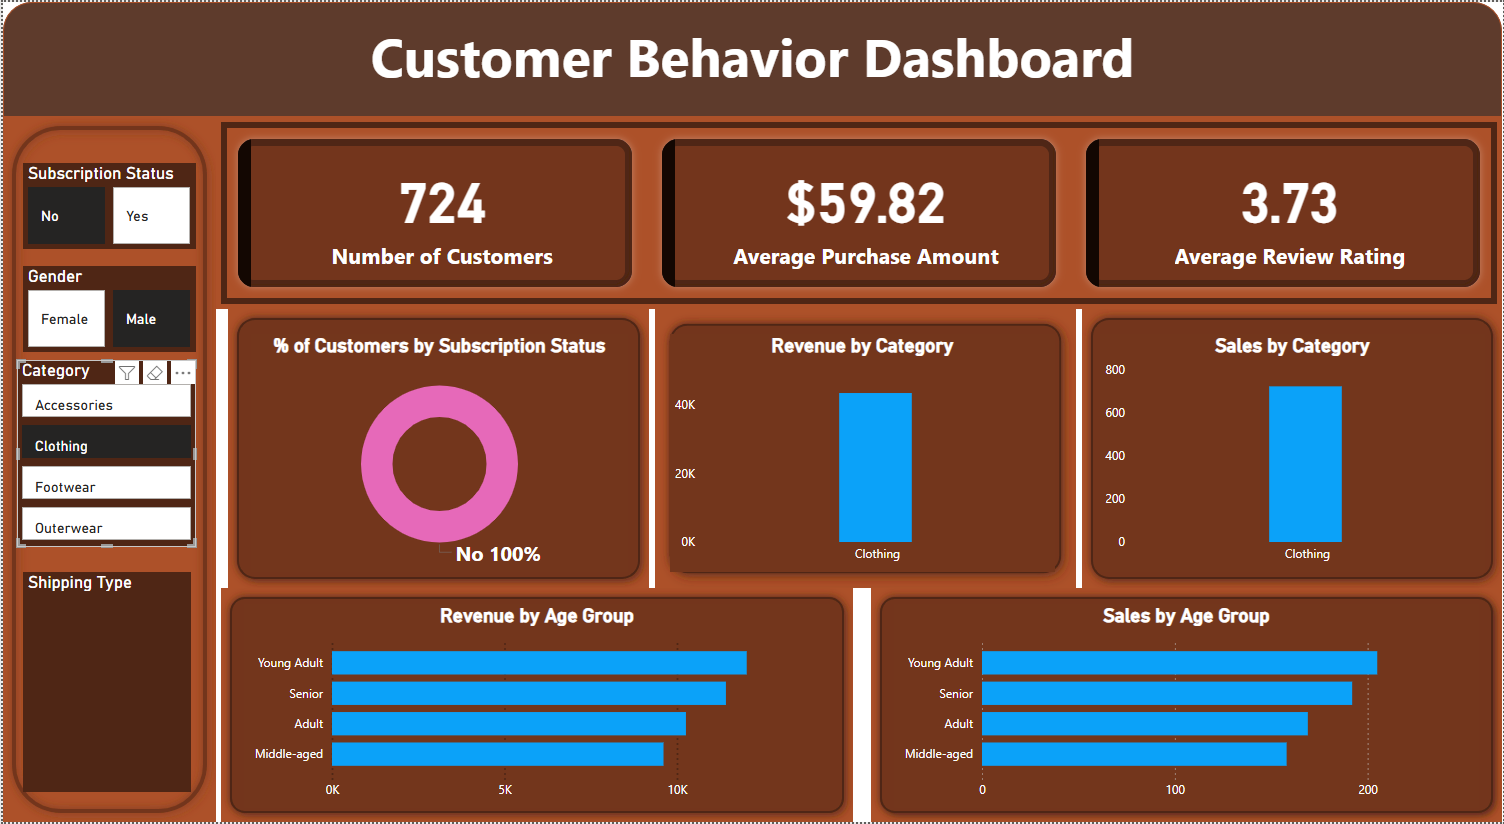

The page's visual inventory and layout, read from the dashboard file:
{"tool":"powerbi","page":{"name":"Page 1","canvas":[1500,820],"ordinal":0},"visuals":[{"type":"cardVisual","fields":{"Data":["public customer.Number of Customers","public customer.Average Purchase Amount","public customer.Average Review Rating"]},"box":[212.9,115.3,1286.5,191.6],"z":2000},{"type":"shape","box":[218.3,585.6,631.7,234.2],"z":2500,"group":"g1"},{"type":"shape","box":[0,0,1499.4,115.3],"z":3000},{"type":"textbox","box":[0,12.4,1499.4,102.9],"z":4000},{"type":"shape","box":[225.4,307,420.5,278.6],"z":5000},{"type":"donutChart","title":"% of Customers by Subscription Status","fields":{"Category":["public customer.subscription_status"],"Y":["CountNonNull(public customer.customer_id)"]},"box":[248.4,331.8,376.2,237.8],"z":6000},{"type":"shape","box":[1078.9,307,420.5,278.6],"z":7000},{"type":"shape","box":[652.1,307,420.5,278.6],"z":8000},{"type":"clusteredColumnChart","title":"Revenue by Category","fields":{"Y":["Sum(public customer.purchase_amount)"],"Category":["public customer.category"]},"box":[667.2,331.8,385.1,237.8],"z":9000},{"type":"clusteredColumnChart","title":"Sales by Category","fields":{"Y":["CountNonNull(public customer.customer_id)"],"Category":["public customer.category"]},"box":[1096.6,331.8,385.1,237.8],"z":10000},{"type":"shape","box":[0,115.3,212.9,704.5],"z":11000},{"type":"advancedSlicerVisual","fields":{"Values":["public customer.subscription_status"]},"box":[19.5,161.5,173.9,85.2],"z":12000},{"type":"advancedSlicerVisual","fields":{"Values":["public customer.gender"]},"box":[19.5,264.4,173.9,85.2],"z":13000},{"type":"advancedSlicerVisual","fields":{"Values":["public customer.category"]},"box":[14.2,358.4,179.2,186.3],"z":14000},{"type":"listSlicer","fields":{"Values":["public customer.shipping_type"]},"box":[19.5,569.6,168.6,220],"z":15000},{"type":"shape","box":[867.7,585.6,631.7,234.2],"z":16000},{"type":"clusteredBarChart","title":"Sales by Age Group","fields":{"Y":["CountNonNull(public customer.customer_id)"],"Category":["public customer.age_group"]},"box":[890.8,601.5,585.6,204.1],"z":17000},{"type":"clusteredBarChart","title":"Revenue by Age Group","fields":{"Y":["Sum(public customer.purchase_amount)"],"Category":["public customer.age_group"]},"box":[241.4,601.6,585.6,204.1],"z":17500,"group":"g1"},{"type":"group","id":"g1","title":"Group 1","box":[218.3,585.6,631.7,234.2],"z":17501}]}

Visuals, with their boxes in screenshot pixels (x1, y1, x2, y2), scaled from the page's 1500x820 canvas onto the 1504x824 screenshot:
cardVisual - public customer.Number of Customers x public customer.Average Purchase Amount: 213 116 1503 308
shape: 219 588 852 823
shape: 0 0 1503 116
textbox: 0 12 1503 116
shape: 226 308 648 588
"% of Customers by Subscription Status" donutChart: 249 333 626 572
shape: 1082 308 1503 588
shape: 654 308 1075 588
"Revenue by Category" clusteredColumnChart: 669 333 1055 572
"Sales by Category" clusteredColumnChart: 1100 333 1486 572
shape: 0 116 213 823
advancedSlicerVisual - public customer.subscription_status: 20 162 194 248
advancedSlicerVisual - public customer.gender: 20 266 194 351
advancedSlicerVisual - public customer.category: 14 360 194 547
listSlicer - public customer.shipping_type: 20 572 189 793
shape: 870 588 1503 823
"Sales by Age Group" clusteredBarChart: 893 604 1480 810
"Revenue by Age Group" clusteredBarChart: 242 605 829 810
"Group 1" group: 219 588 852 823
